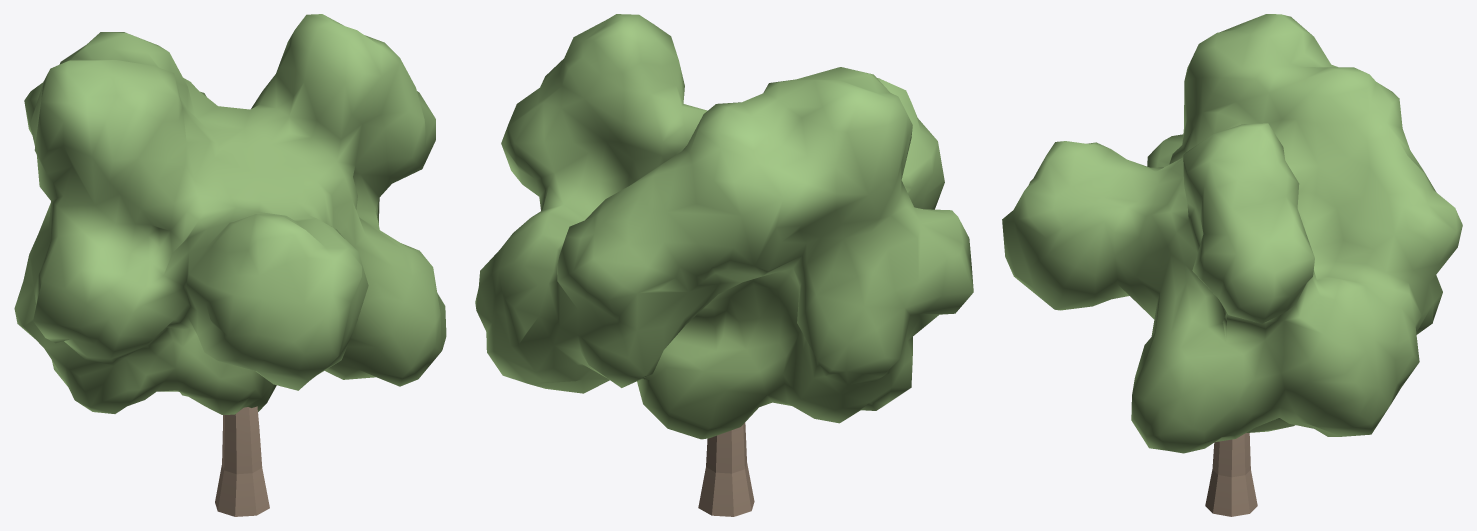
The model's file is tree_oak.glb.
3 views of the same model, side by side, from view 1: azimuth 30°, elevation 25°; view 2: azimuth 150°, elevation 25°; view 3: azimuth 270°, elevation 25° (orthographic). The views are drawn at different scales.
Parts seen in each view (by area): view 1: tree_oak; view 2: tree_oak; view 3: tree_oak.
Part boxes in pixels (left/top/right/bottom): tree_oak: left=14, top=14, right=446, bottom=516; tree_oak: left=475, top=14, right=973, bottom=516; tree_oak: left=1002, top=14, right=1462, bottom=516.
Bounding box in the file's own units: 7.9 × 8.2 × 8.05.
